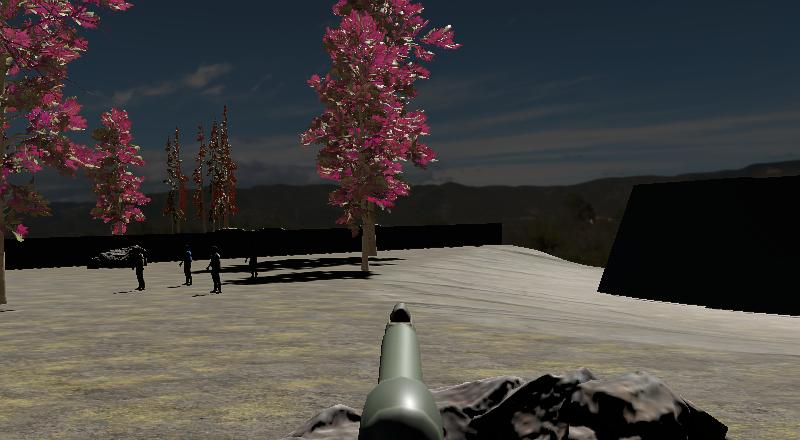Human: (205, 243, 225, 295), (128, 242, 149, 291), (177, 241, 196, 288)
